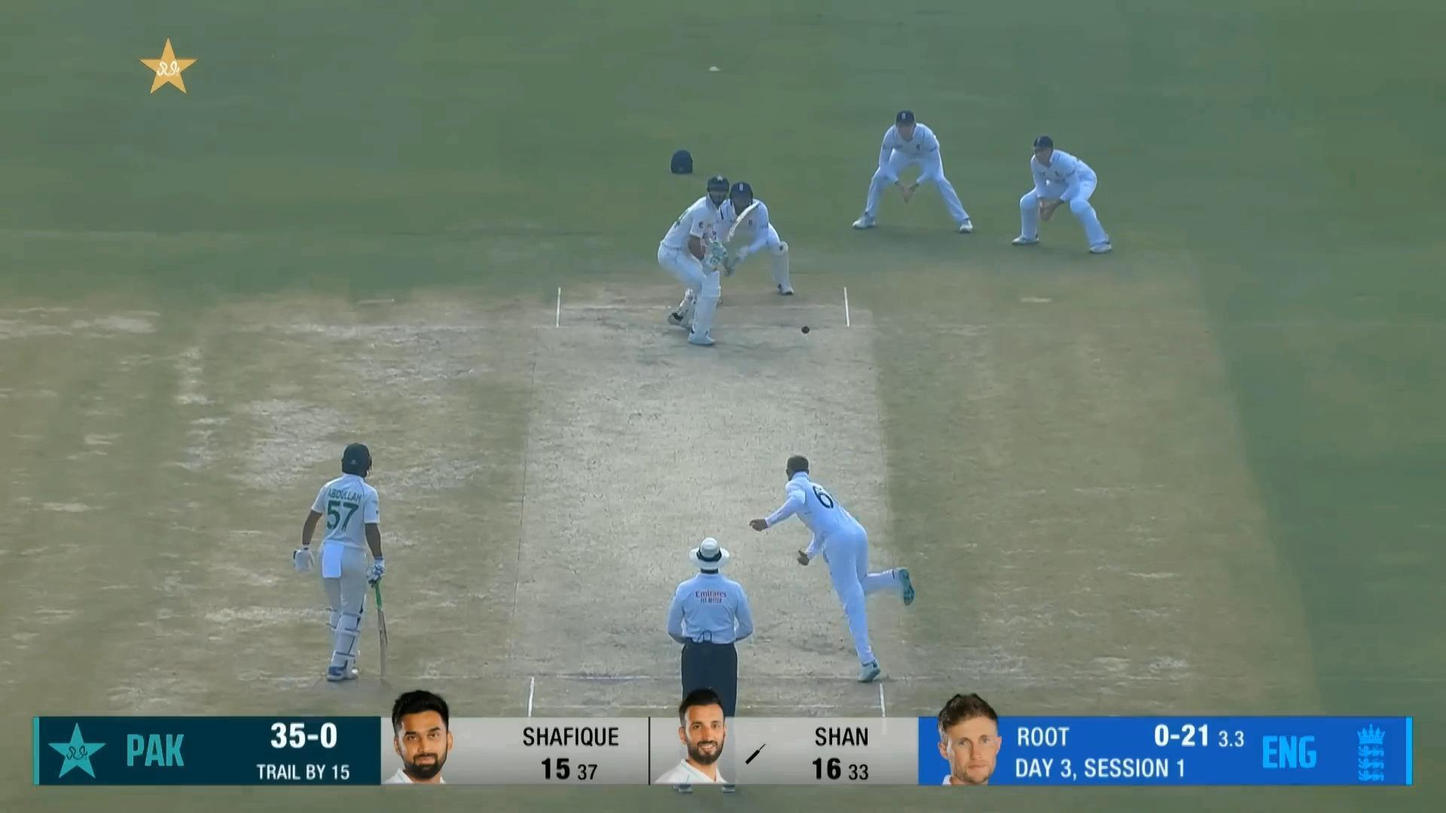BM 1: (657, 175, 761, 346)
BO: (749, 455, 916, 682)
